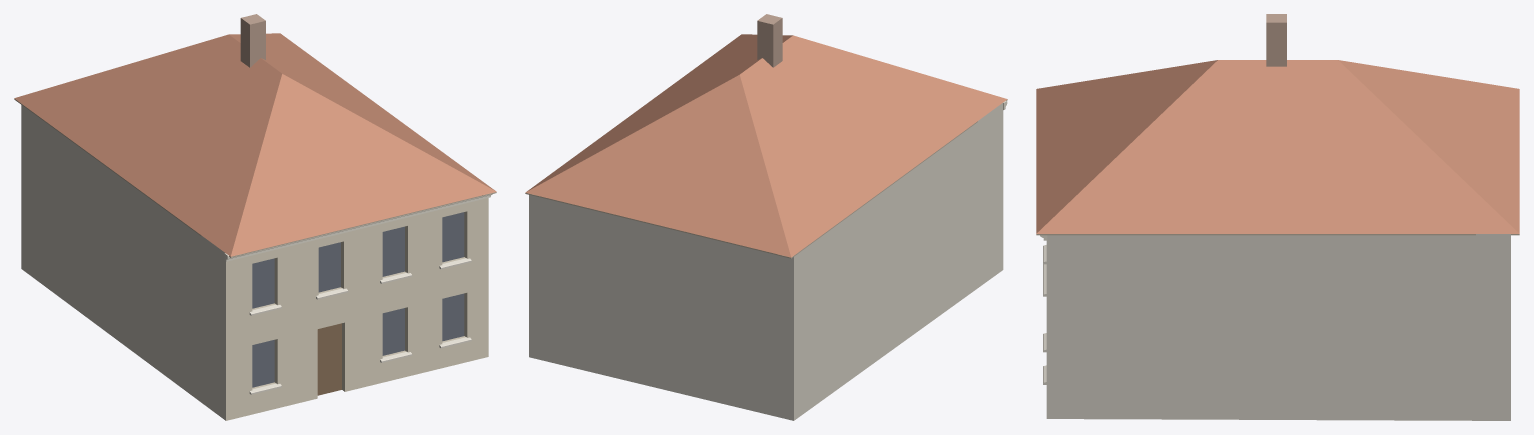
3 renders of one model, left to right at view 1: azimuth 30°, elevation 25°; view 2: azimuth 150°, elevation 25°; view 3: azimuth 270°, elevation 25°, orthographic. The views are drawn at different scales.
Visible parts, largest first — view 1: CP_154_Masonry, CP_154_Roof, CP_154_Chimney_0, CP_154_Cornice_eave_0; view 2: CP_154_Masonry, CP_154_Roof, CP_154_Chimney_0; view 3: CP_154_Masonry, CP_154_Roof, CP_154_Chimney_0, CP_154_Roof_EaveClosure_1.
Boxes of the visible parts, box(x1,y1,x2,y2) form: CP_154_Masonry: box(21, 105, 488, 420); CP_154_Roof: box(14, 33, 496, 256); CP_154_Chimney_0: box(240, 14, 265, 67); CP_154_Cornice_eave_0: box(224, 194, 492, 261); CP_154_Masonry: box(529, 103, 1003, 420); CP_154_Roof: box(525, 34, 1007, 257); CP_154_Chimney_0: box(757, 14, 782, 67); CP_154_Masonry: box(1046, 234, 1510, 420); CP_154_Roof: box(1036, 60, 1519, 233); CP_154_Chimney_0: box(1266, 14, 1286, 66); CP_154_Roof_EaveClosure_1: box(1036, 234, 1519, 235).
Size of the model in its own units: 11.69 by 12.3 by 16.4.
